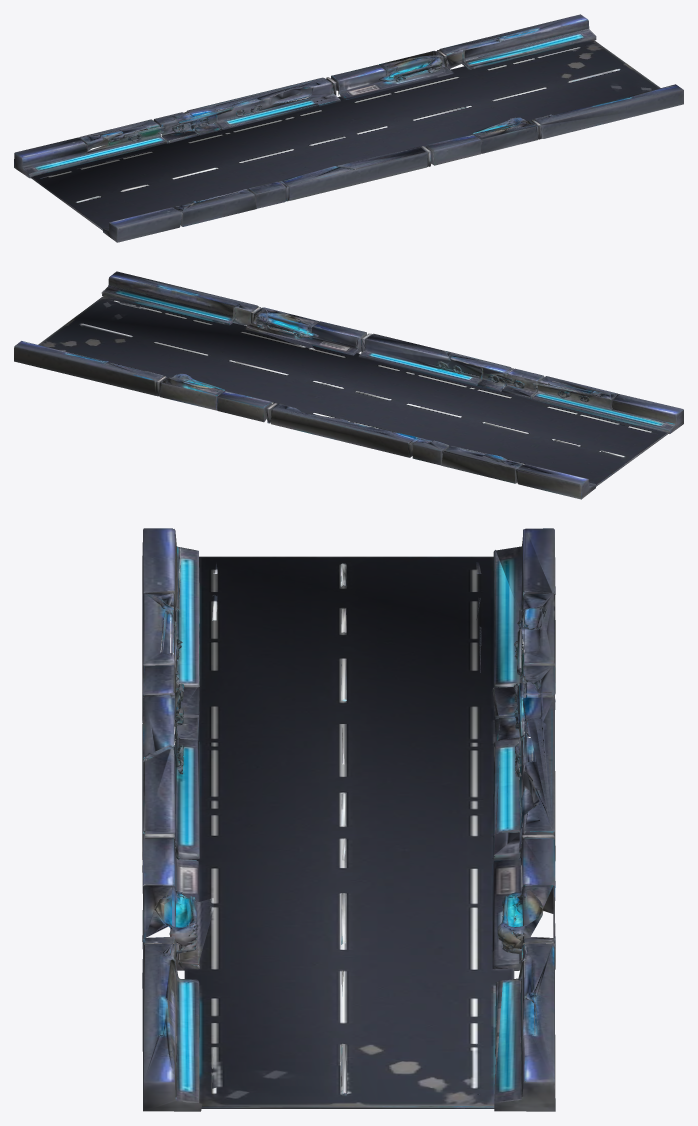
Rendered from highway.glb.
3 views of the same model, one above another, from view 1: azimuth 30°, elevation 25°; view 2: azimuth 150°, elevation 25°; view 3: azimuth 270°, elevation 25° (orthographic). The views are drawn at different scales.
Bounding box in the file's own units: 0.9497 × 0.0274 × 0.2994.
1 material, 1 textured.
